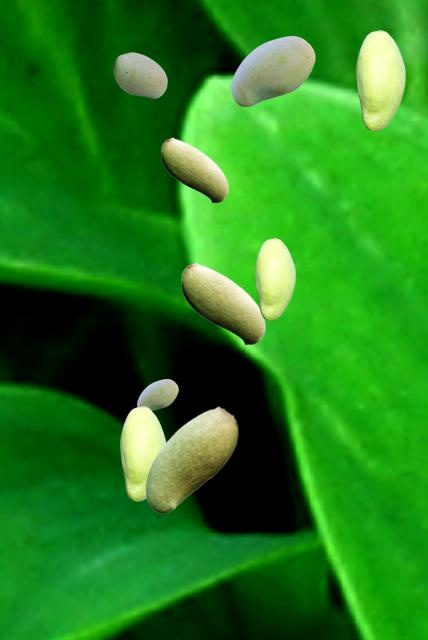green_mango: (145, 406, 237, 512), (181, 262, 264, 344), (231, 36, 314, 105), (356, 30, 404, 130), (161, 137, 227, 202), (120, 406, 165, 500), (255, 238, 294, 319), (113, 52, 166, 97), (137, 379, 177, 411)
